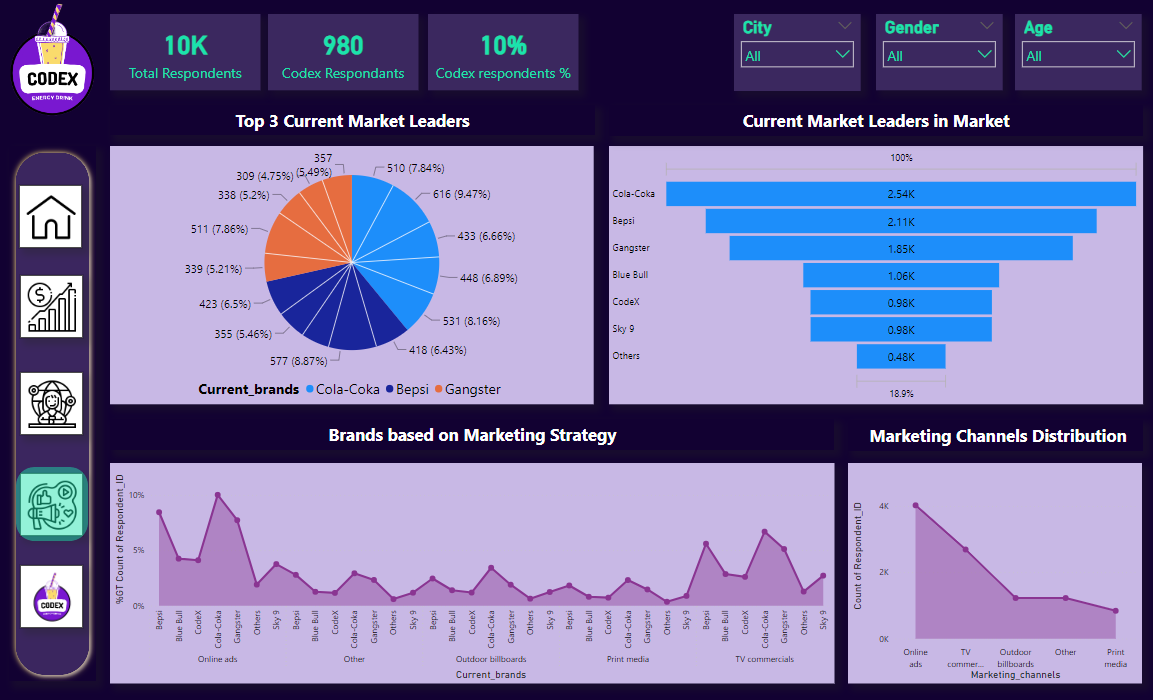

Layout of this report page (visuals, bound fields, positions):
{"tool":"powerbi","page":{"name":"Marketing View","canvas":[1650,1000],"ordinal":3},"visuals":[{"type":"areaChart","fields":{"Category":["codex fact_survey_responses.Marketing_channels","codex fact_survey_responses.Current_brands"],"Y":["CountNonNull(codex fact_survey_responses.Respondent_ID)"]},"box":[157.4,661.1,1035.2,314.8],"z":0},{"type":"funnel","fields":{"Category":["codex fact_survey_responses.Current_brands"],"Y":["CountNonNull(codex fact_survey_responses.Respondent_ID)"]},"box":[870.4,209.3,763,368.5],"z":1000},{"type":"textbox","box":[157.4,150,692.6,42.6],"z":2000},{"type":"textbox","box":[870.4,150,763,44.4],"z":3000},{"type":"textbox","box":[1211.1,600,422.2,44.4],"z":4000},{"type":"textbox","box":[157.4,598.1,1035.2,44.4],"z":5000},{"type":"stackedAreaChart","fields":{"Category":["codex fact_survey_responses.Marketing_channels"],"Y":["CountNonNull(codex fact_survey_responses.Respondent_ID)"]},"box":[1211.1,661.1,420.4,314.8],"z":6000},{"type":"pieChart","fields":{"Y":["CountNonNull(codex fact_survey_responses.Respondent_ID)"],"Category":["codex fact_survey_responses.Current_brands"],"Series":["codex fact_survey_responses.Reasons_for_choosing_brands"]},"box":[157.4,209.3,690.7,368.5],"z":7000},{"type":"shape","box":[13,209.3,124.1,764.8],"z":8000},{"type":"image","box":[27.1,264.3,90,90],"z":9000},{"type":"image","box":[28.6,675.7,90,90],"z":10000},{"type":"image","box":[28.6,531.4,90,90],"z":11000},{"type":"image","box":[28.6,392.9,90,90],"z":12000},{"type":"image","box":[28.6,807.1,90,90],"z":13000},{"type":"shape","box":[22.9,667.1,102.9,105.7],"z":14000},{"type":"image","box":[1.4,0,145.7,171.4],"z":15000},{"type":"card","title":"Total Respondents","fields":{"Values":["CountNonNull(codex fact_survey_responses.Respondent_ID)"]},"box":[157.4,20.4,215,109.3],"z":16000},{"type":"slicer","fields":{"Values":["codex dim_repondents.Gender"]},"box":[1251.9,20.4,181.5,109.3],"z":17000},{"type":"slicer","fields":{"Values":["codex dim_repondents.Age"]},"box":[1450,20.4,181.5,109.3],"z":18000},{"type":"slicer","fields":{"Values":["codex dim_cities.City"]},"box":[1048.6,20,181.4,110],"z":19000},{"type":"card","fields":{"Values":["Report measures.Codex respondent"]},"box":[383.3,20.4,214.8,109.3],"z":20000},{"type":"card","fields":{"Values":["Report measures.Codex respondents %"]},"box":[611.1,20.4,214.8,109.3],"z":21000}]}

Visuals, with their boxes in screenshot pixels (x1, y1, x2, y2), scaled from the page's 1650x1000 canvas onto the 1153x700 screenshot:
areaChart - codex fact_survey_responses.Marketing_channels x codex fact_survey_responses.Current_brands: (110,463,833,683)
funnel - codex fact_survey_responses.Current_brands x CountNonNull(codex fact_survey_responses.Respondent_ID): (608,147,1141,404)
textbox: (110,105,594,135)
textbox: (608,105,1141,136)
textbox: (846,420,1141,451)
textbox: (110,419,833,450)
stackedAreaChart - codex fact_survey_responses.Marketing_channels x CountNonNull(codex fact_survey_responses.Respondent_ID): (846,463,1140,683)
pieChart - CountNonNull(codex fact_survey_responses.Respondent_ID) x codex fact_survey_responses.Current_brands: (110,147,593,404)
shape: (9,147,96,682)
image: (19,185,82,248)
image: (20,473,83,536)
image: (20,372,83,435)
image: (20,275,83,338)
image: (20,565,83,628)
shape: (16,467,88,541)
image: (1,0,103,120)
"Total Respondents" card: (110,14,260,91)
slicer - codex dim_repondents.Gender: (875,14,1002,91)
slicer - codex dim_repondents.Age: (1013,14,1140,91)
slicer - codex dim_cities.City: (733,14,860,91)
card - Report measures.Codex respondent: (268,14,418,91)
card - Report measures.Codex respondents %: (427,14,577,91)
